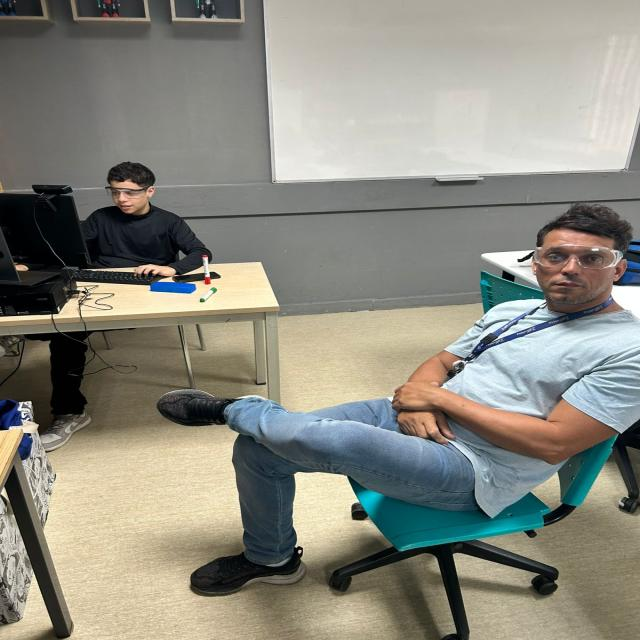oculos-epi: (532, 244, 625, 270), (105, 187, 149, 198)
